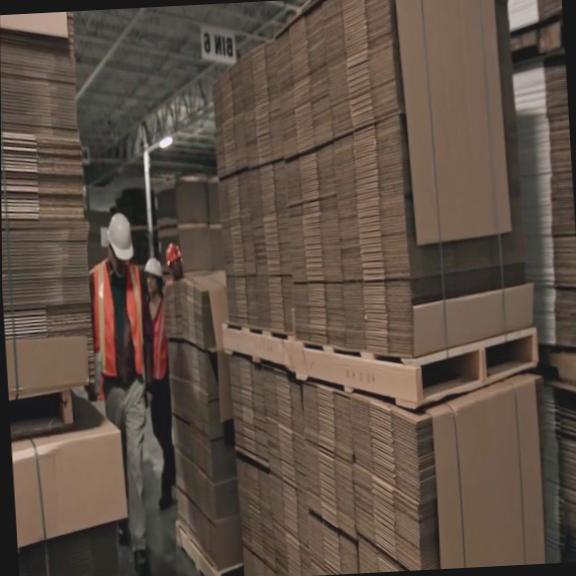safety_vest: (90, 255, 146, 376), (148, 290, 171, 383)
